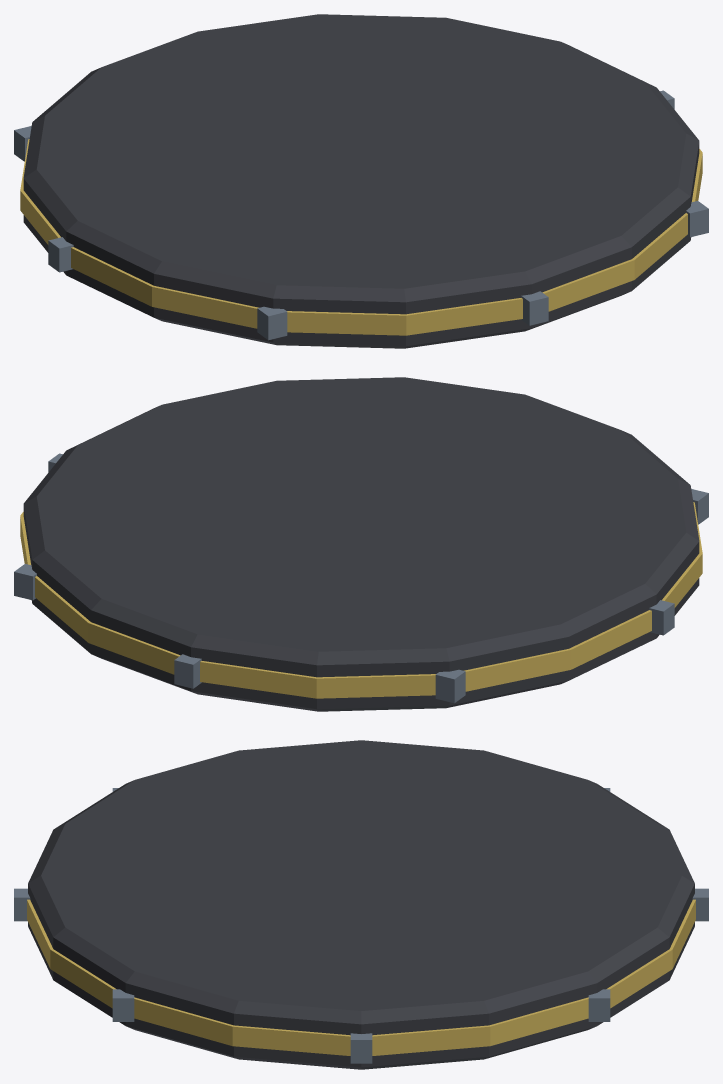
File: Dec_L.fbx
The picture shows the model from 3 angles, top to bottom: view 1: azimuth 30°, elevation 25°; view 2: azimuth 150°, elevation 25°; view 3: azimuth 270°, elevation 25°; orthographic projection. The views are drawn at different scales.
Visible parts, largest first — view 1: Dec_L; view 2: Dec_L; view 3: Dec_L.
Boxes of the visible parts, x1=… form: Dec_L: x1=14, y1=14, x2=708, y2=348; Dec_L: x1=14, y1=377, x2=708, y2=711; Dec_L: x1=14, y1=740, x2=708, y2=1069.
Bounding box in the file's own units: 3.22 × 0.3 × 3.22.
Materials: 1 (1 with a texture image).
